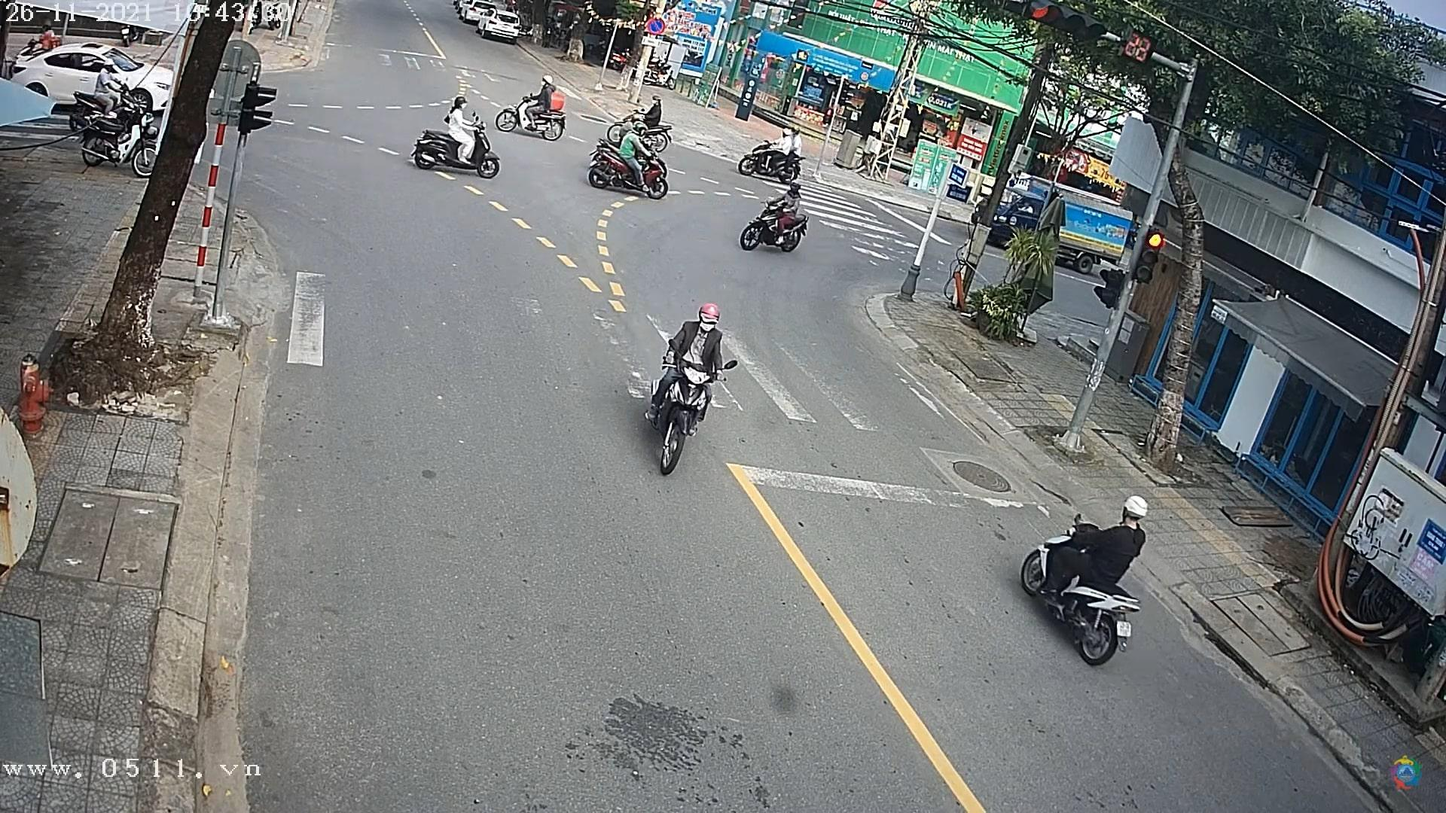car: (9, 46, 172, 106)
motorbike: (1015, 503, 1139, 666), (646, 345, 737, 479), (587, 139, 671, 199), (409, 128, 497, 179), (737, 125, 807, 181), (498, 93, 568, 145), (739, 207, 806, 253)
truck: (966, 176, 1130, 277)
